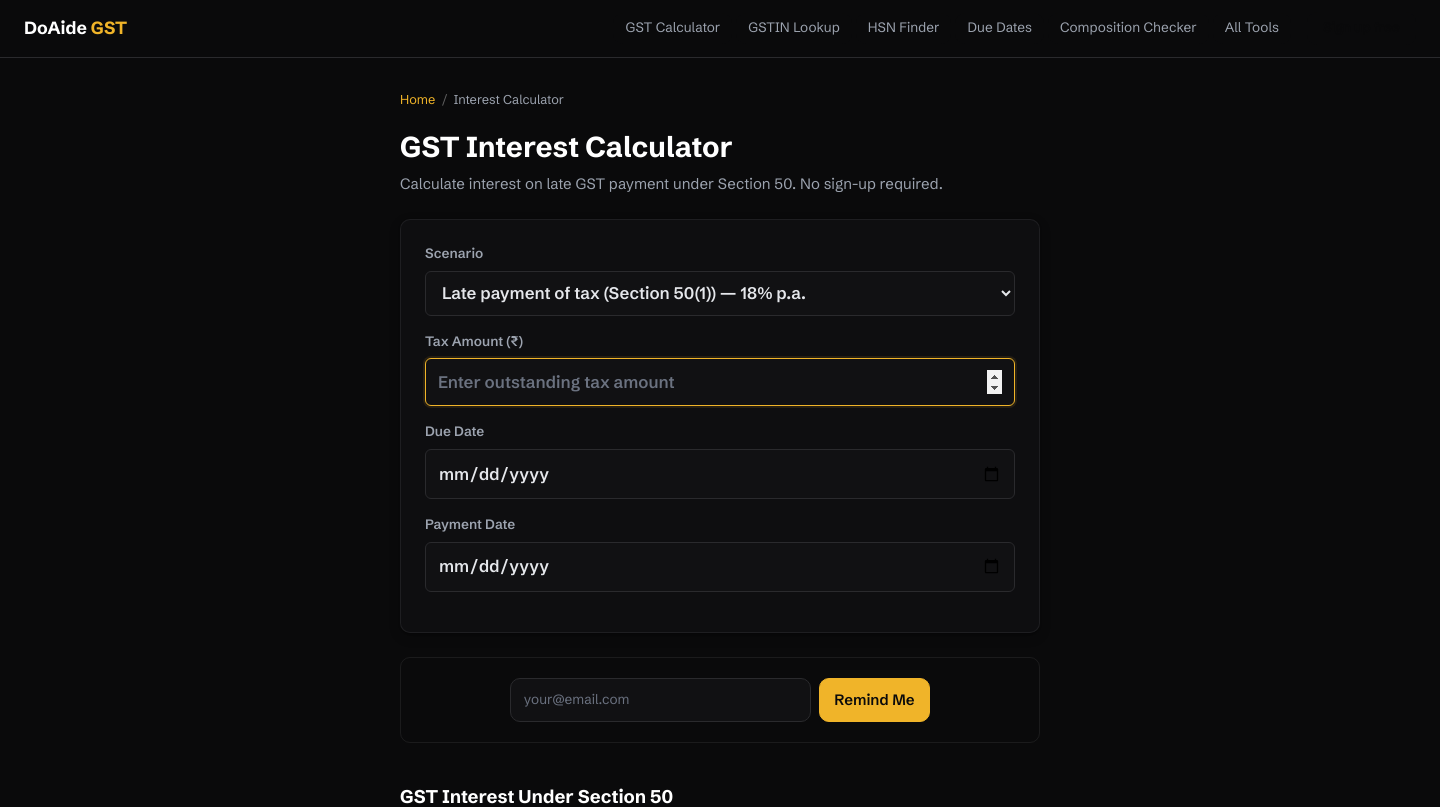
Test: InterestCalculatorPage › shows result when tax amount and dates are filled
The width and height of the screenshot is (1440, 807).
Type "100000" into the number field with placeholder "Enter outstanding tax amount" at (720, 382), box [425,358,1015,406]
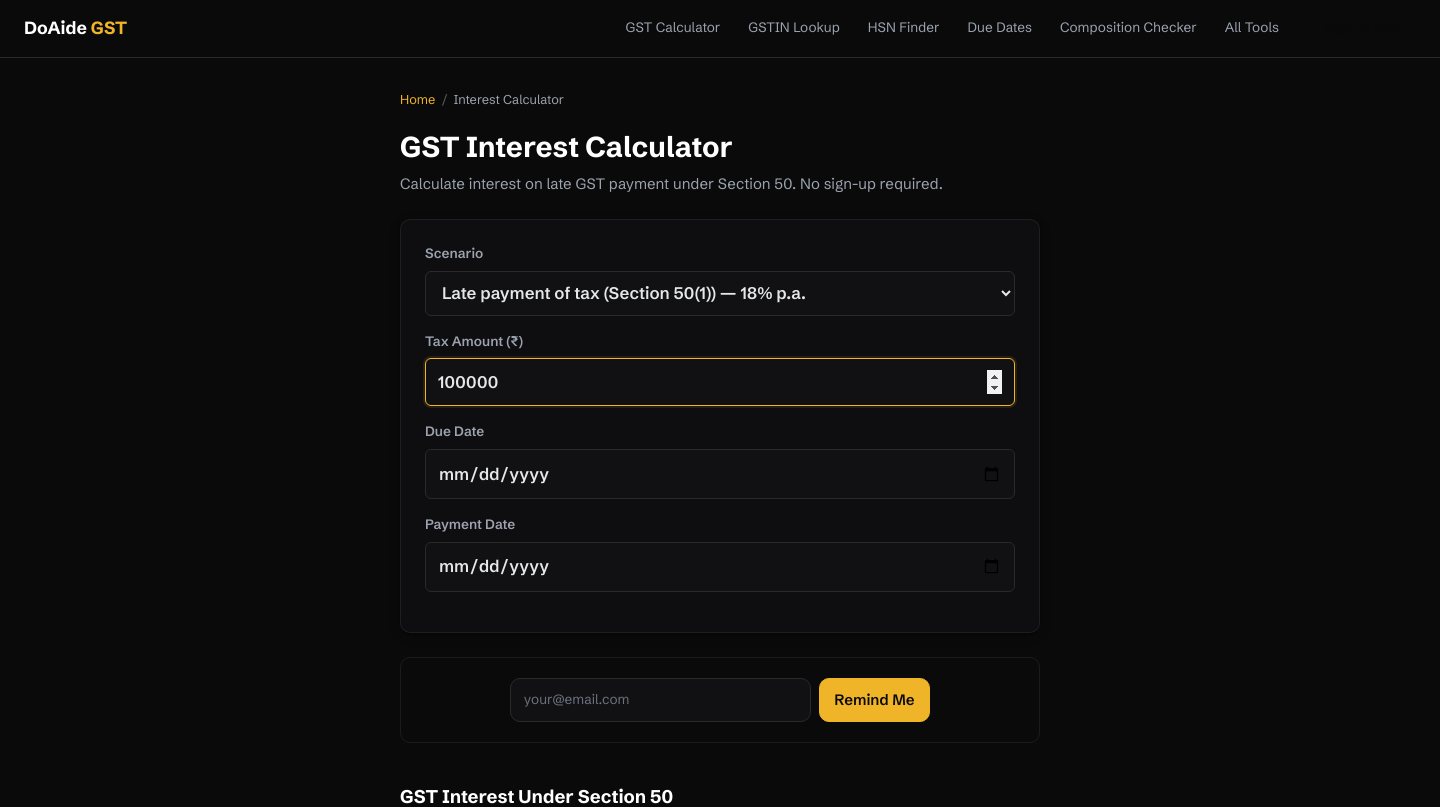
Type "2026-01-20" into the date field labelled "Due Date" at (720, 474), box [425,449,1015,499]
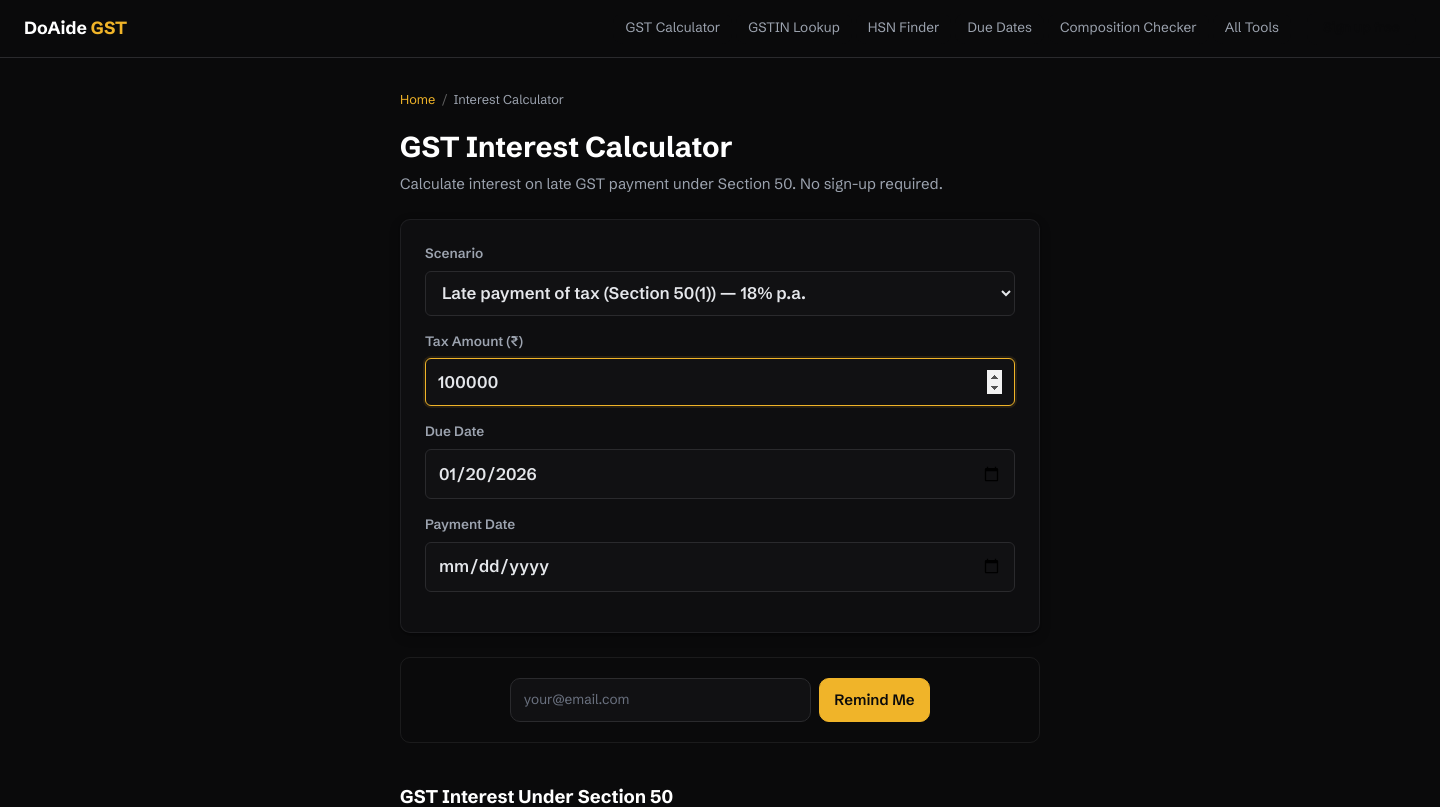
Type "2026-04-20" into the date field labelled "Payment Date" at (720, 567), box [425,542,1015,592]
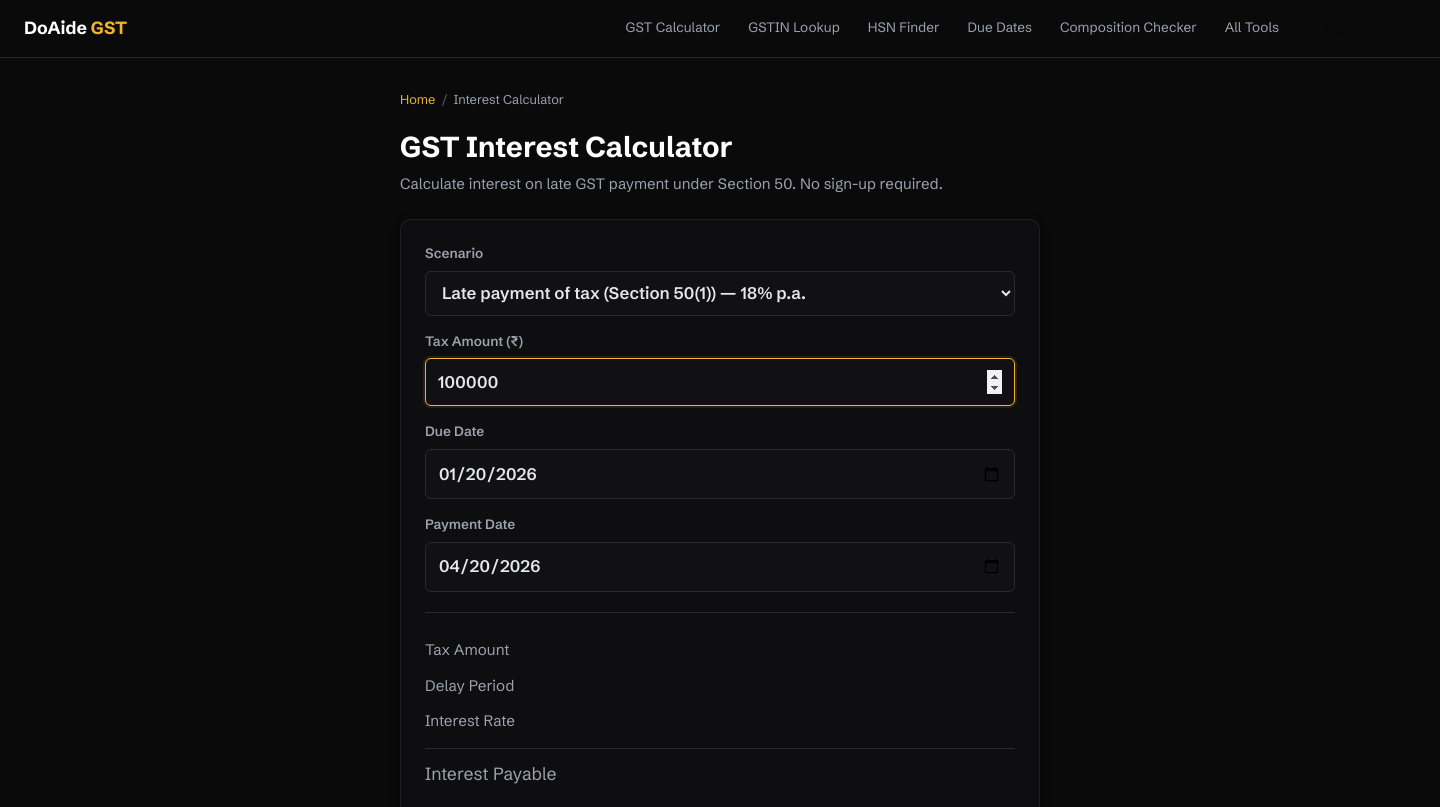
Now the text "Interest Payable" is shown, box [425,761,557,787]
